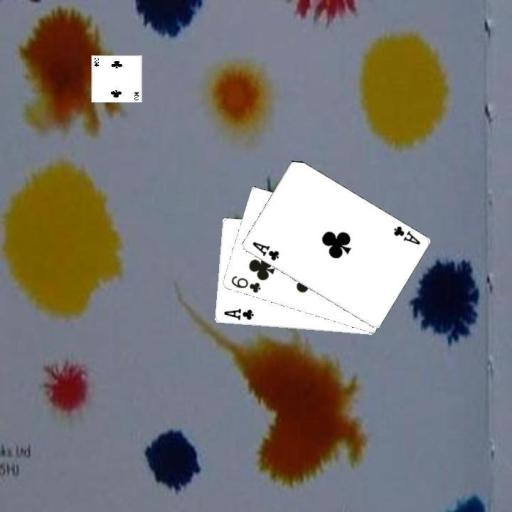6C: (228, 273, 262, 295)
AC: (390, 223, 422, 247), (249, 239, 280, 263), (221, 306, 255, 321)
